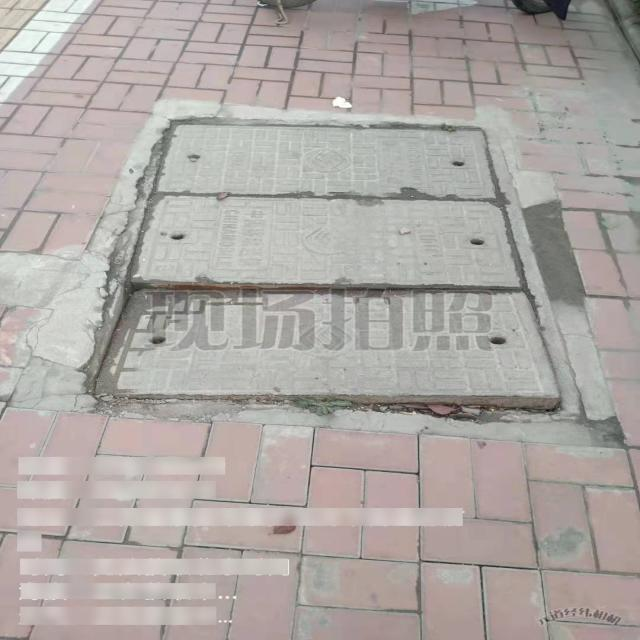Lose: (83, 109, 582, 423)
